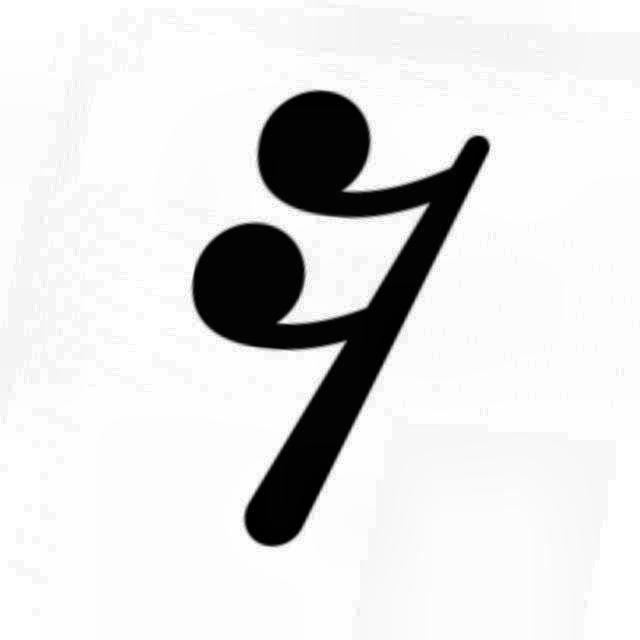Eighth-rest: (133, 80, 515, 560)
